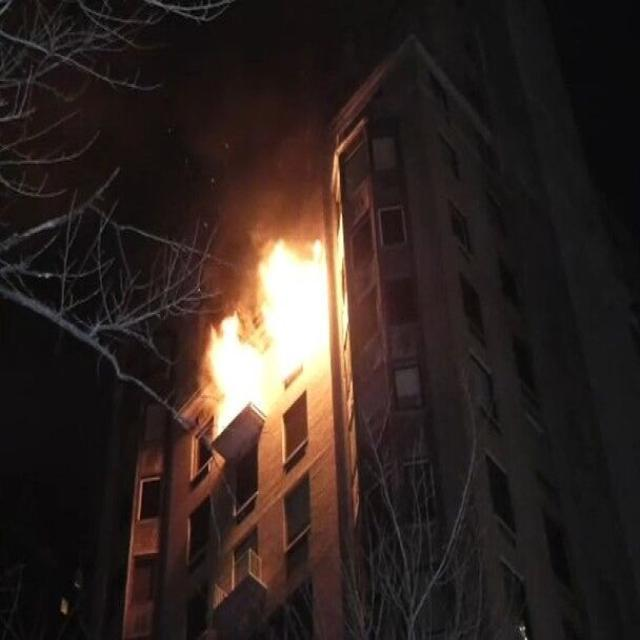Fire: (258, 236, 326, 368), (205, 319, 266, 421)
